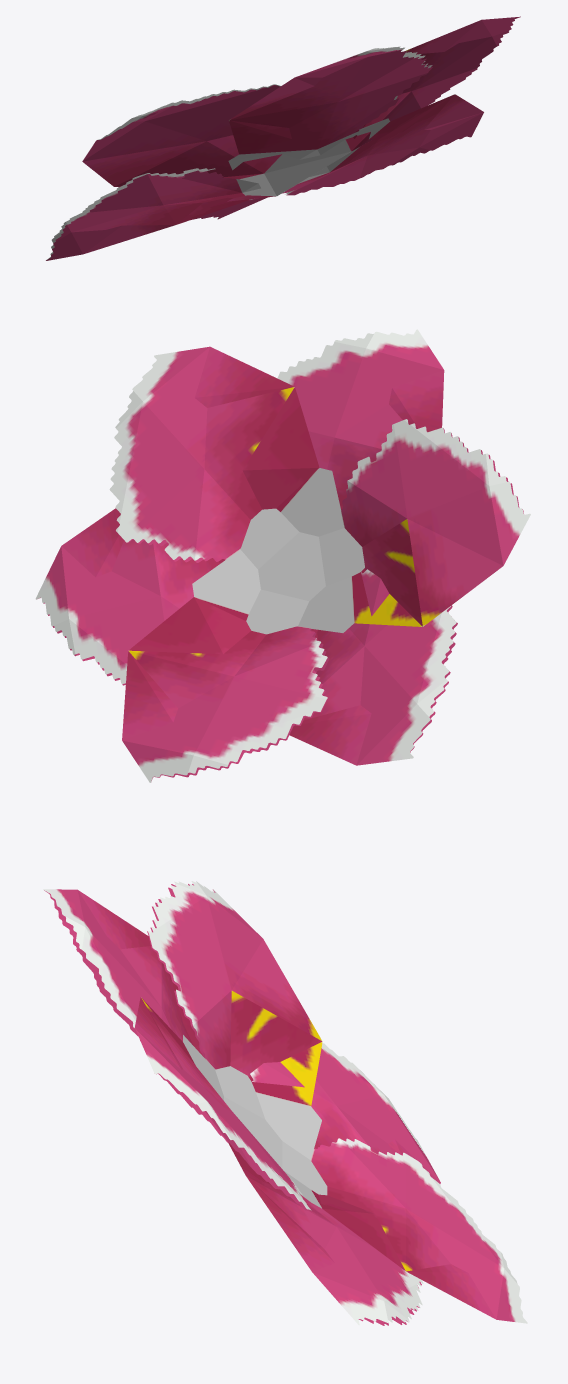
File: BR_Meganium.obj
3 renders of one model, top to bottom at view 1: azimuth 30°, elevation 25°; view 2: azimuth 150°, elevation 25°; view 3: azimuth 270°, elevation 25°, orthographic. The views are drawn at different scales.
Visible parts, largest first — view 1: meganium; view 2: meganium; view 3: meganium.
Boxes of the visible parts, bbox=[...] form: meganium: bbox=[46, 16, 520, 260]; meganium: bbox=[35, 329, 530, 782]; meganium: bbox=[43, 881, 527, 1325].
Size of the model in its own units: 12.39 by 9.55 by 10.67.
